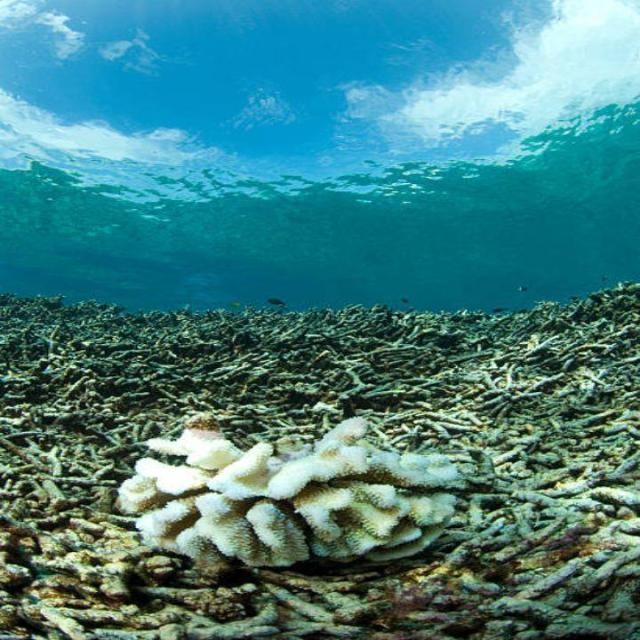Dead Coral: (8, 294, 637, 416), (473, 427, 640, 640), (0, 430, 123, 640), (137, 566, 386, 640)
